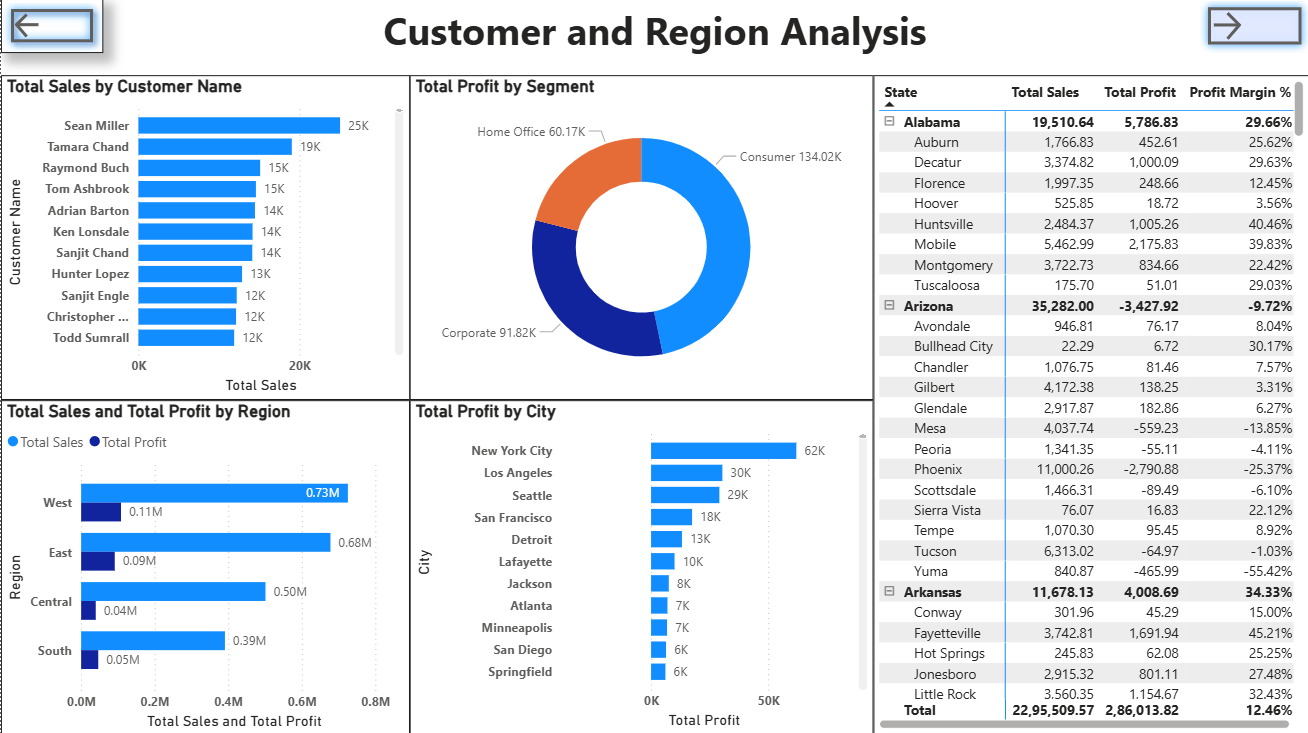

This screenshot's page, from the dashboard's own definition file:
{"tool":"powerbi","page":{"name":"Page 3","canvas":[1280,720],"ordinal":2},"visuals":[{"type":"textbox","box":[369.3,0,551.5,74.6],"z":0},{"type":"barChart","fields":{"Category":["Sample - Superstore.Customer Name"],"Y":["All measures.Total Sales"]},"box":[0,74.6,399.9,317.9],"z":1},{"type":"pivotTable","fields":{"Rows":["Sample - Superstore.State","Sample - Superstore.City"],"Values":["All measures.Total Sales","All measures.Total Profit","All measures.Profit Margin %"]},"box":[853.5,74.6,426.8,645.7],"z":2},{"type":"barChart","fields":{"Category":["Sample - Superstore.City"],"Y":["All measures.Total Profit"]},"box":[399.9,392.5,453.7,327.7],"z":3},{"type":"donutChart","fields":{"Category":["Sample - Superstore.Segment"],"Y":["All measures.Total Profit"]},"box":[399.9,74.6,453.7,317.9],"z":4},{"type":"clusteredBarChart","fields":{"Category":["Sample - Superstore.Region"],"Y":["All measures.Total Sales","All measures.Total Profit"]},"box":[0,392.5,399.9,327.7],"z":5},{"type":"actionButton","box":[0,0,100.3,52.6],"z":6},{"type":"actionButton","box":[1172.4,0,107.6,52.6],"z":7}]}

Visuals, with their boxes in screenshot pixels (x1, y1, x2, y2), scaled from the page's 1280x720 canvas onto the 1308x733 screenshot:
textbox: select_region(377, 0, 941, 76)
barChart - Sample - Superstore.Customer Name x All measures.Total Sales: select_region(0, 76, 409, 400)
pivotTable - Sample - Superstore.State x Sample - Superstore.City: select_region(872, 76, 1307, 732)
barChart - Sample - Superstore.City x All measures.Total Profit: select_region(409, 400, 872, 732)
donutChart - Sample - Superstore.Segment x All measures.Total Profit: select_region(409, 76, 872, 400)
clusteredBarChart - Sample - Superstore.Region x All measures.Total Sales: select_region(0, 400, 409, 732)
actionButton: select_region(0, 0, 102, 54)
actionButton: select_region(1198, 0, 1307, 54)
